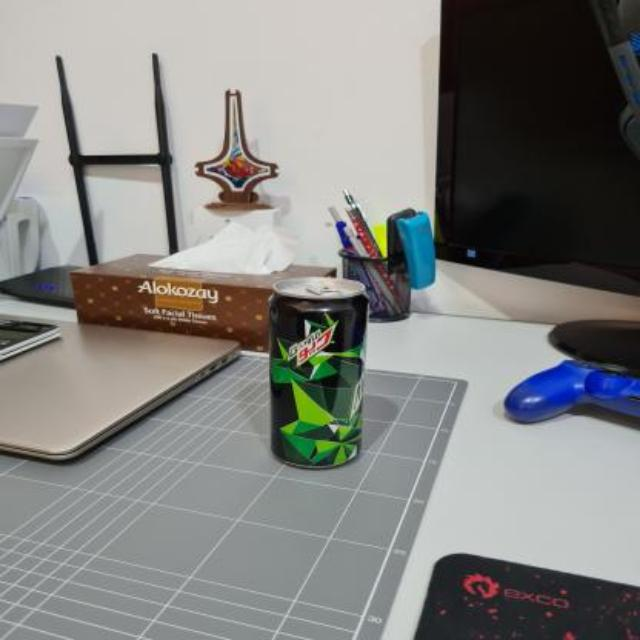cardboard paper: (152, 209, 294, 274)
metal: (269, 277, 366, 466)
